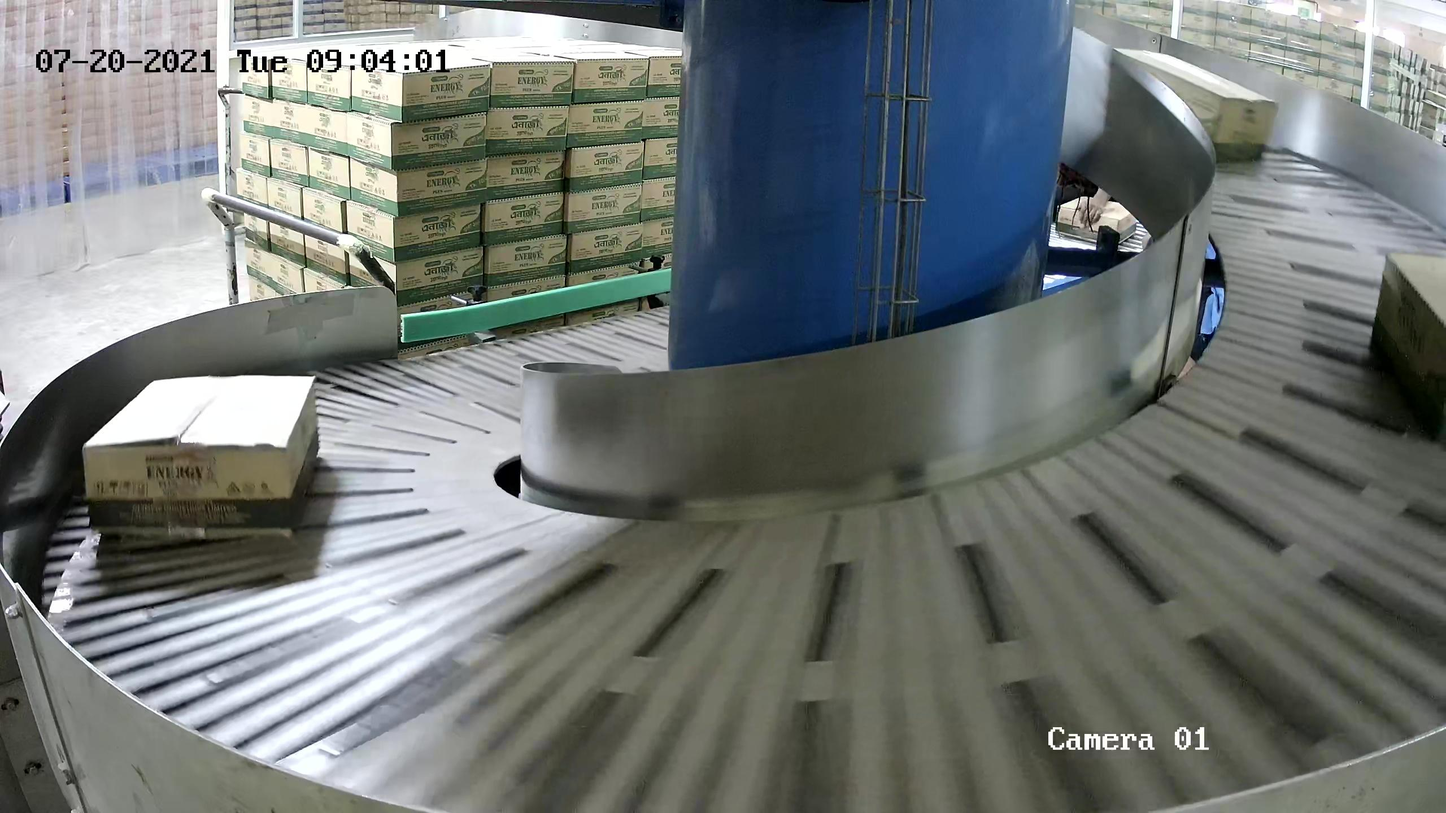Box: (80, 372, 323, 541), (1110, 45, 1282, 167), (1368, 248, 1446, 451)
